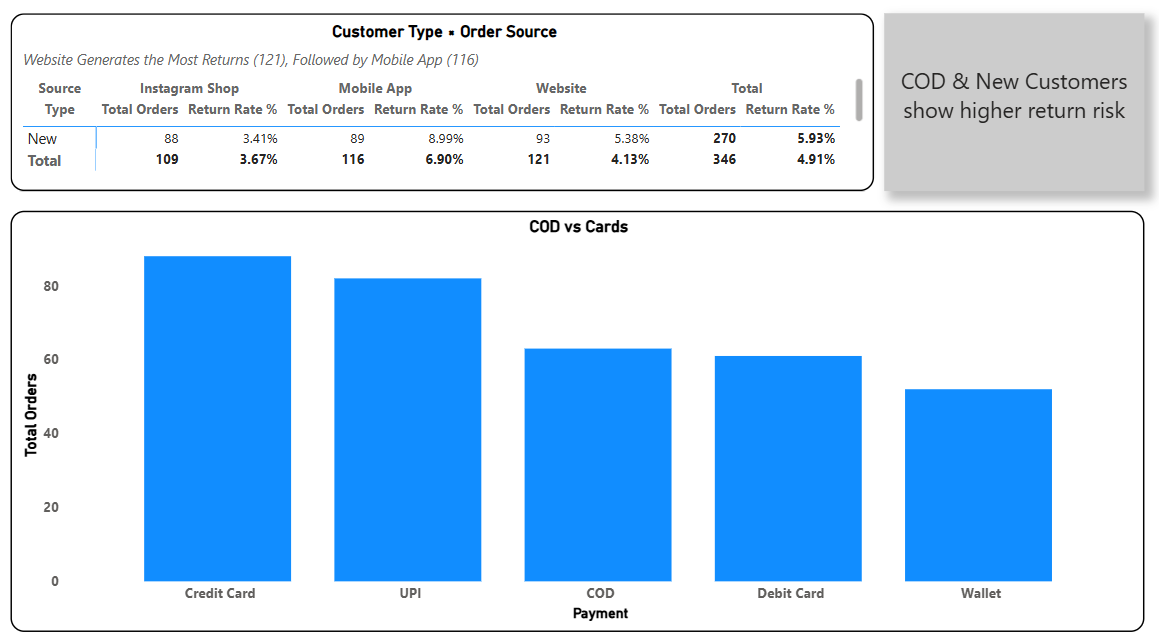

Layout of this report page (visuals, bound fields, positions):
{"tool":"powerbi","page":{"name":"Behavior","canvas":[1280,720],"ordinal":2},"visuals":[{"type":"pivotTable","title":"Customer Type × Order Source","fields":{"Rows":["urbanthreads_q4.Type"],"Columns":["urbanthreads_q4.Source"],"Values":["urbanthreads_q4.Total Orders","urbanthreads_q4.Return Rate %"]},"box":[19.2,23.3,948.2,194.9],"z":0},{"type":"clusteredColumnChart","title":"COD vs Cards ","fields":{"Category":["urbanthreads_q4.Payment"],"Y":["urbanthreads_q4.Total Orders"]},"box":[19.2,240.1,1244.6,462.4],"z":1000},{"type":"textbox","box":[978.4,23.3,285.4,194.9],"z":2000}]}

Visuals, with their boxes in screenshot pixels (x1, y1, x2, y2), scaled from the page's 1280x720 canvas onto the 1159x640 screenshot:
"Customer Type × Order Source" pivotTable: [17, 21, 876, 194]
"COD vs Cards " clusteredColumnChart: [17, 213, 1144, 624]
textbox: [886, 21, 1144, 194]
